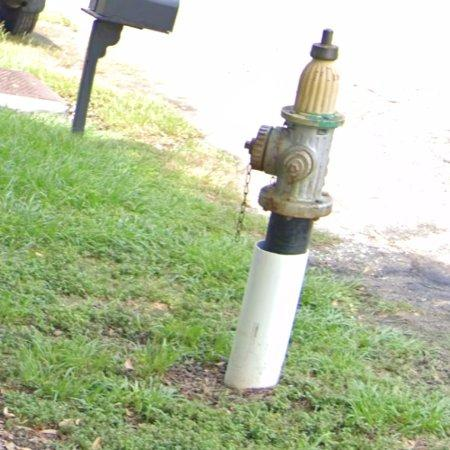a fire hydrant: (225, 29, 345, 391)
